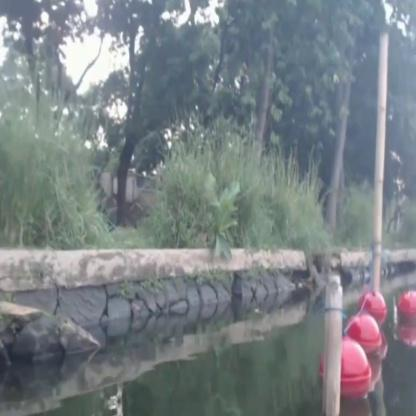red_buoy: (345, 342, 371, 402), (356, 318, 382, 356), (400, 288, 415, 335), (364, 292, 386, 323)
